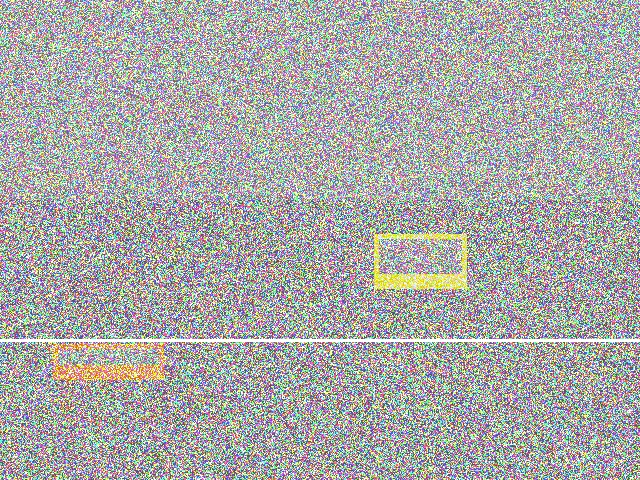car: (440, 365, 598, 480)
truck: (324, 134, 515, 205), (151, 245, 320, 322)
